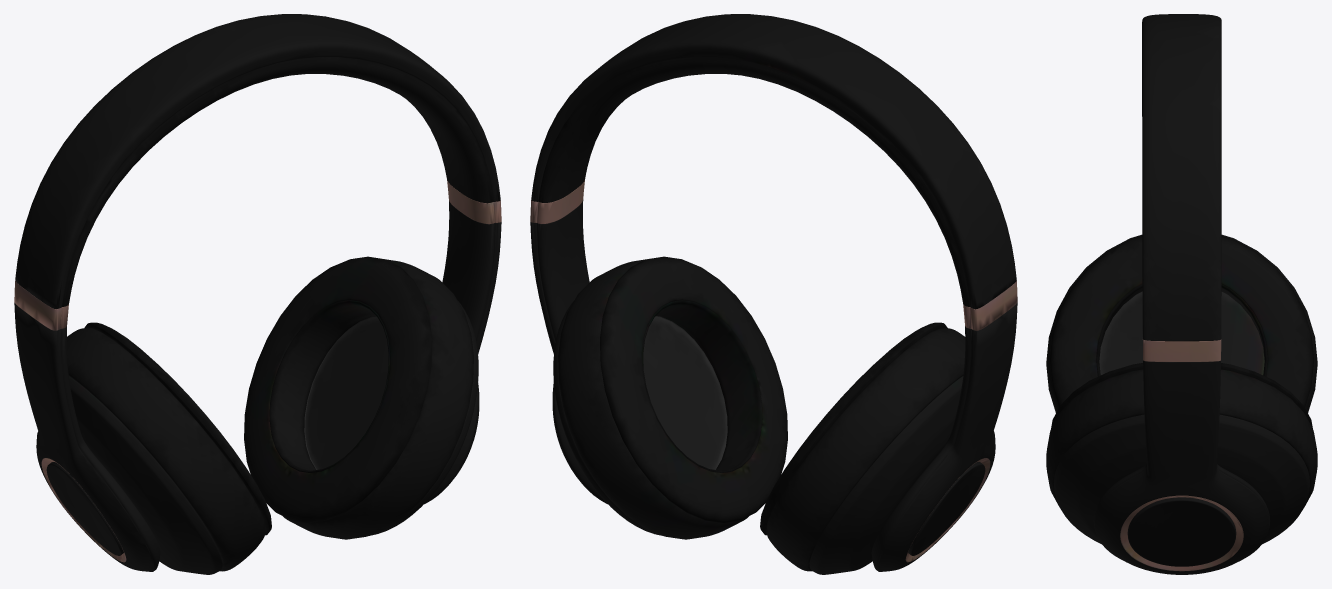
The model's file is headphones.opt.glb.
3 renders of one model, left to right at view 1: azimuth 30°, elevation 25°; view 2: azimuth 150°, elevation 25°; view 3: azimuth 270°, elevation 25°, orthographic. The views are drawn at different scales.
Parts seen in each view (by area): view 1: Object_2; view 2: Object_2; view 3: Object_2.
Part boxes in pixels (bbox=[...]): Object_2: bbox=[14, 14, 501, 574]; Object_2: bbox=[530, 14, 1017, 574]; Object_2: bbox=[1046, 14, 1317, 574].
Bounding box in the file's own units: 0.2177 × 0.2358 × 0.1189.
1 material, 1 textured.
